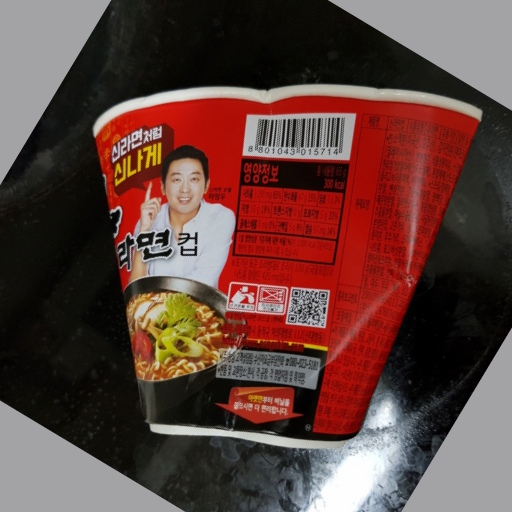Paper_1: (88, 82, 483, 455)
